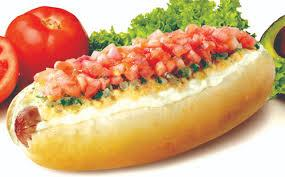Completos: (7, 22, 277, 174)
